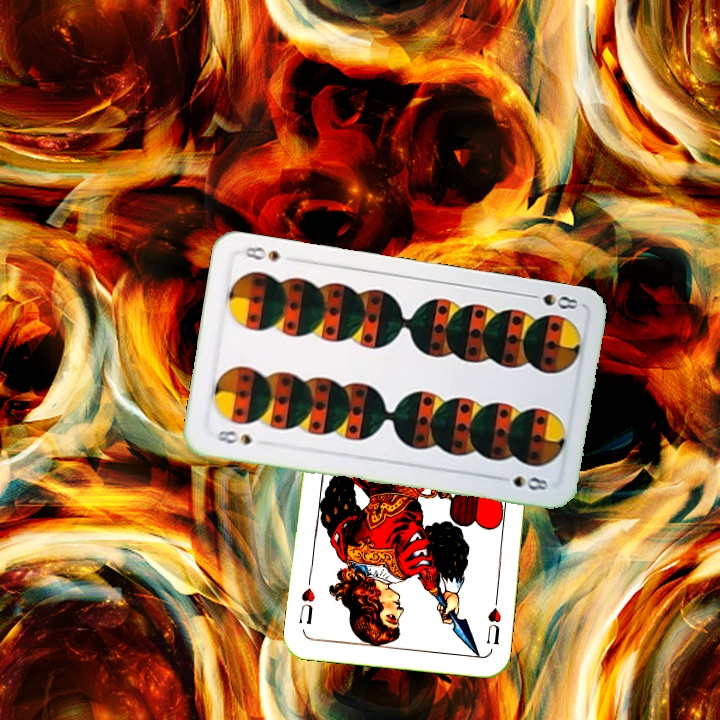HU: (482, 593, 504, 648)
S8: (523, 290, 580, 312), (212, 426, 254, 447)
